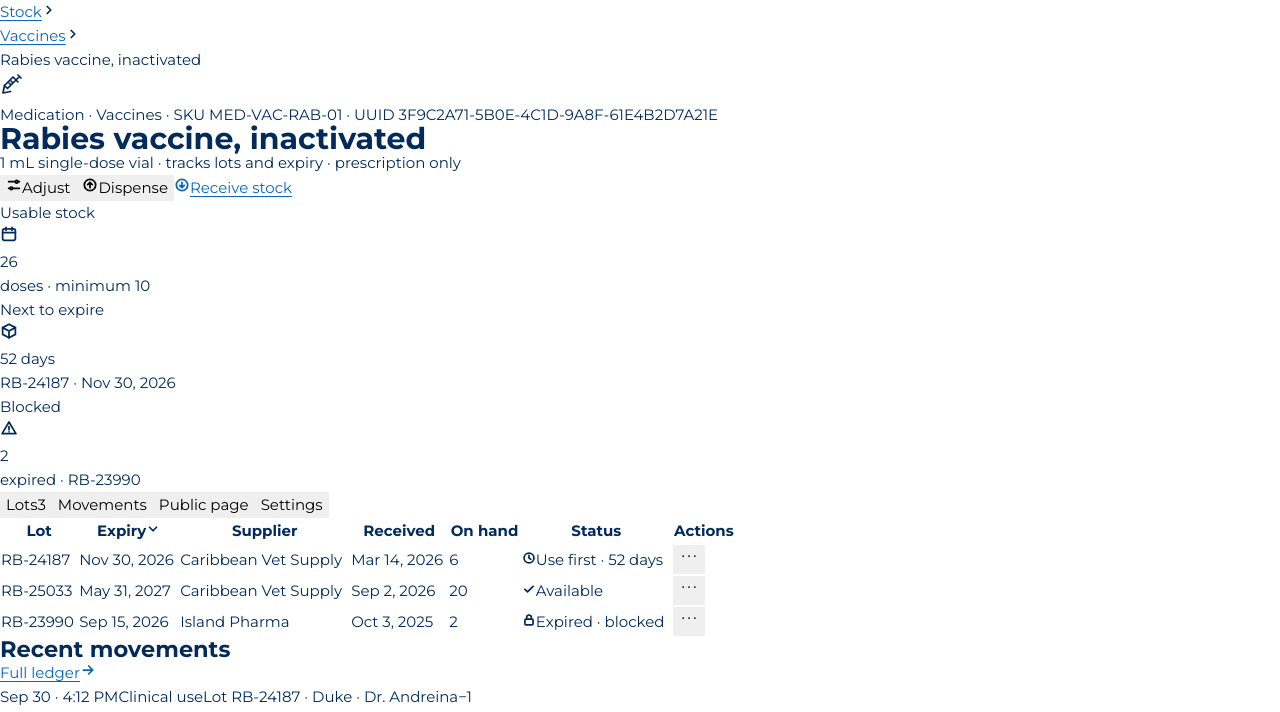
Test: ProductLots › switches tabs and opens the movement dialog
Click the tab "Settings".
click(292, 505)  # box [255, 492, 329, 518]
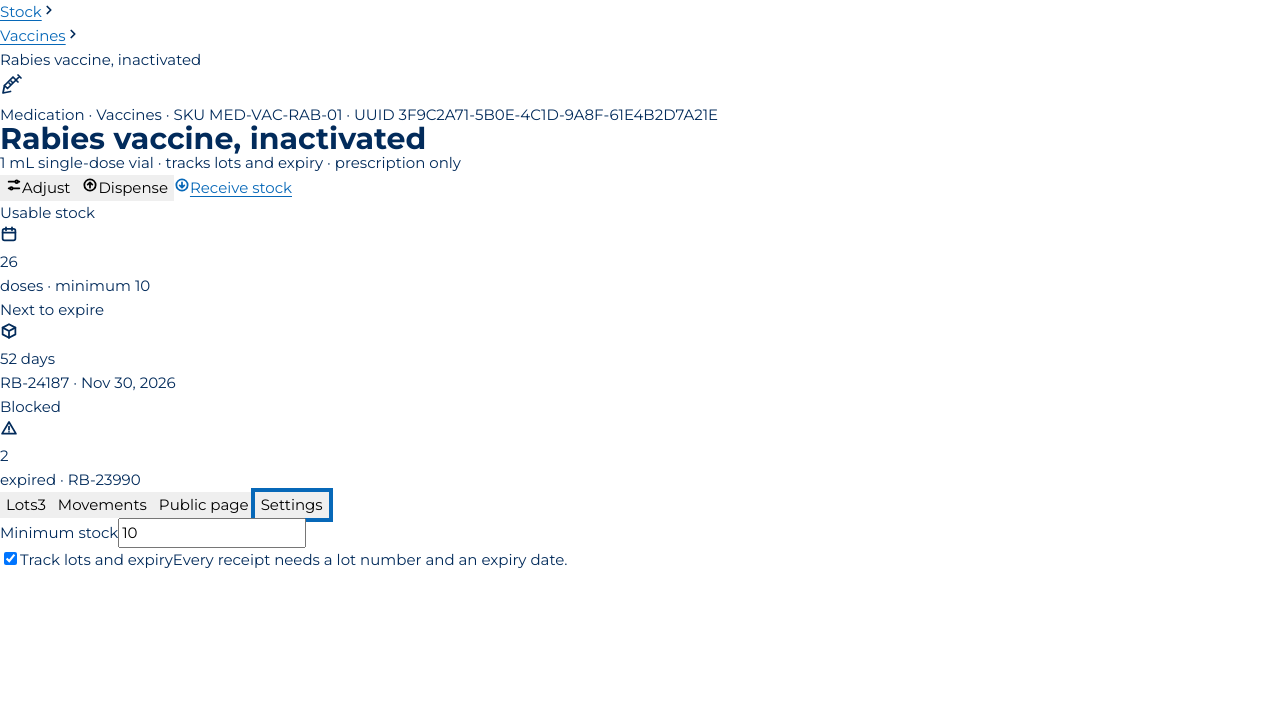
Result: the field labelled "Minimum stock" is shown at [118, 518, 306, 548]
Click the button "Dispense".
click(125, 188)  # box [76, 175, 174, 201]
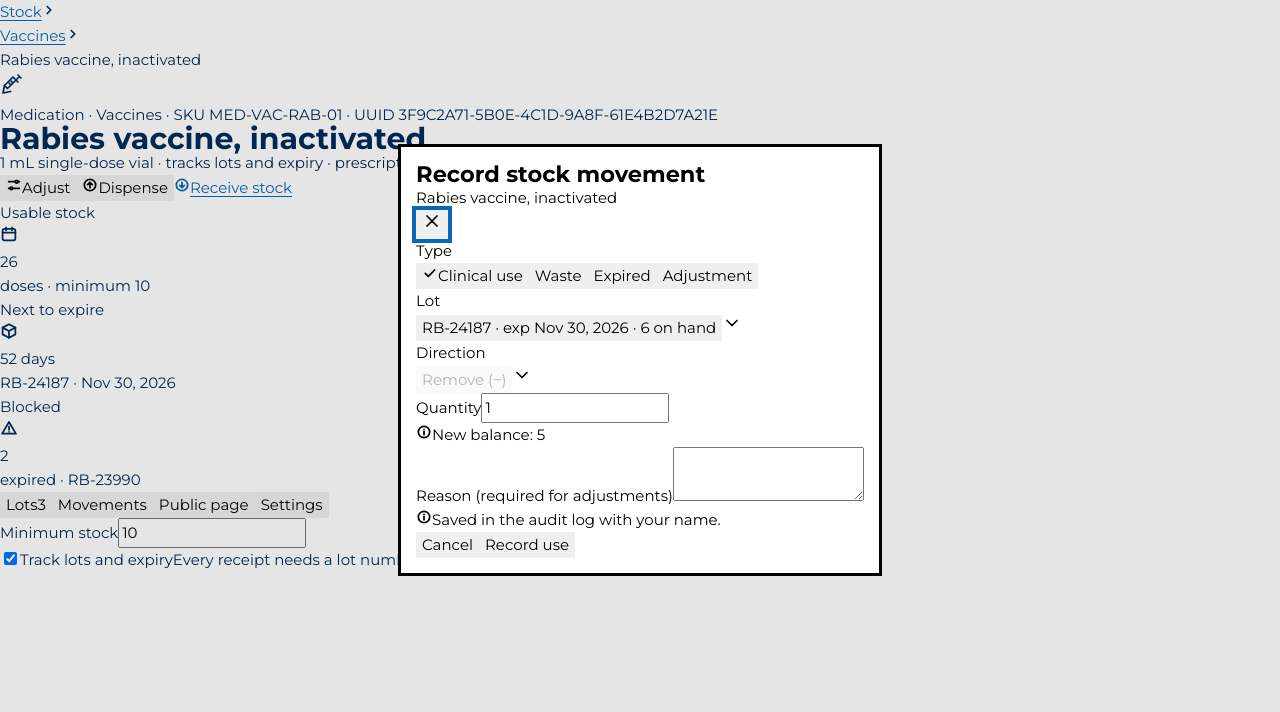
Result: the dialog "Record stock movement" is shown at [398, 144, 882, 576]
